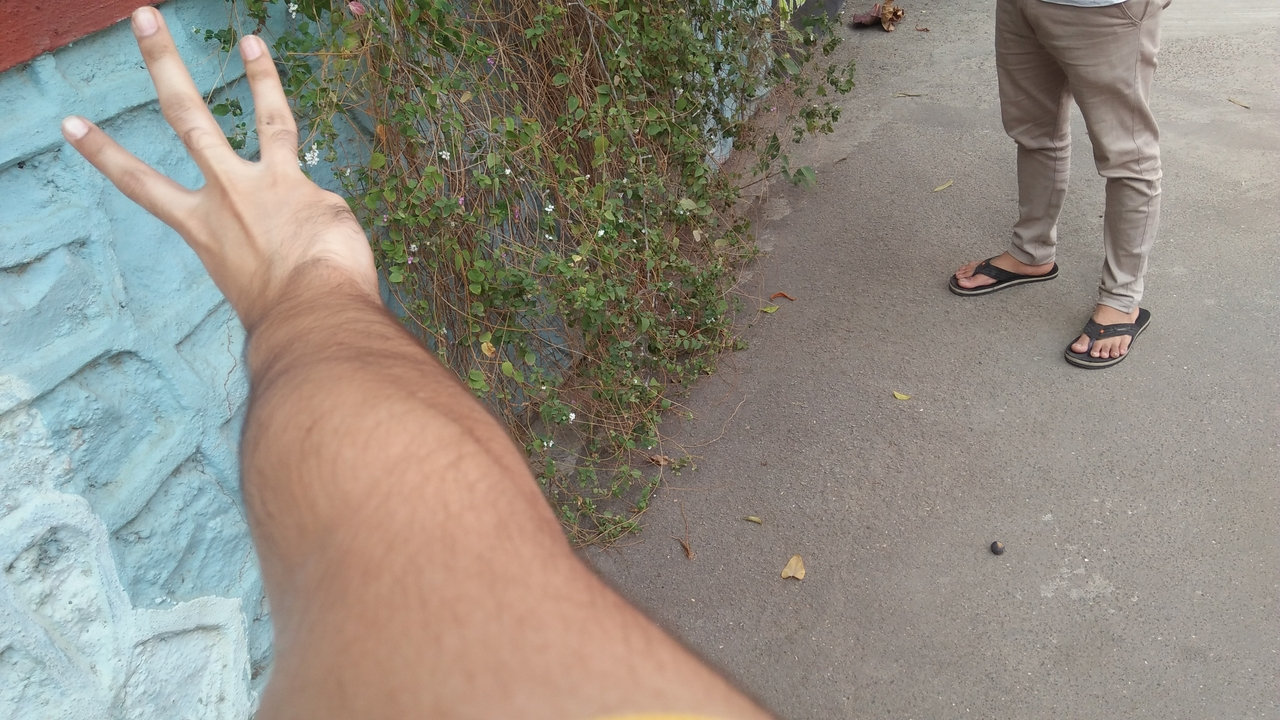fingertip: (51, 104, 99, 155), (116, 1, 168, 48), (226, 24, 272, 70)
